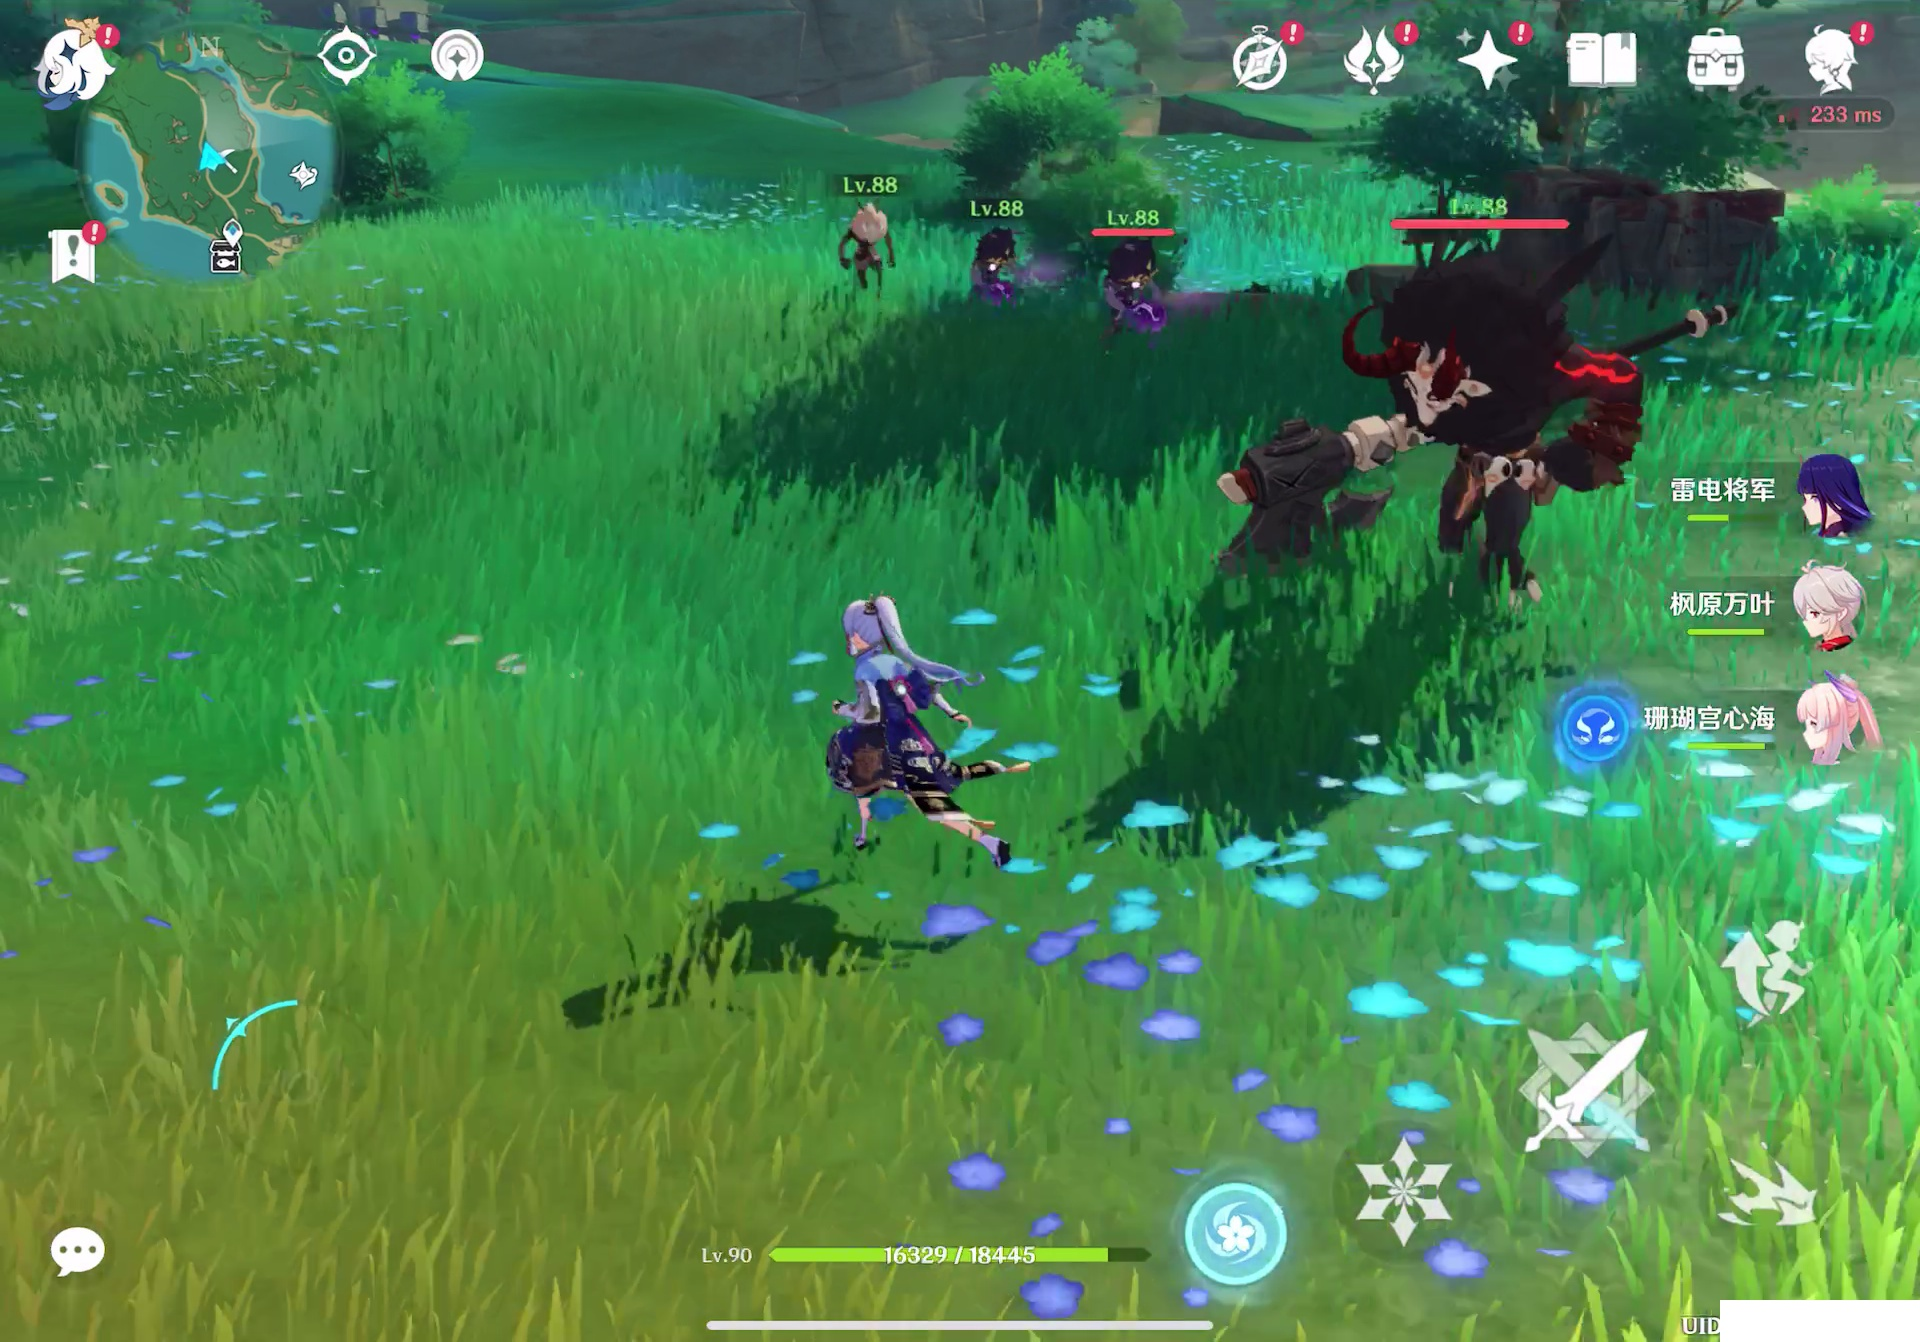NTR: (1243, 233, 1630, 605)
丘丘人: (1102, 244, 1177, 352), (837, 207, 924, 296), (957, 225, 1043, 308)
神里绫龟: (794, 548, 1029, 904)
